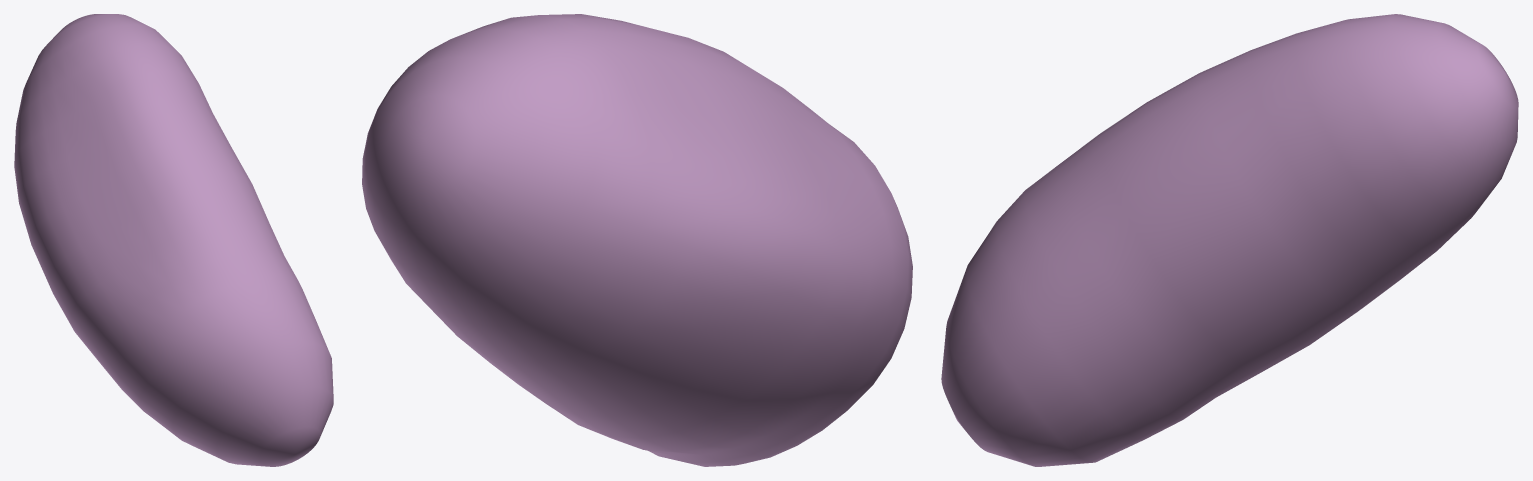
3 renders of one model, left to right at view 1: azimuth 30°, elevation 25°; view 2: azimuth 150°, elevation 25°; view 3: azimuth 270°, elevation 25°, orthographic. The views are drawn at different scales.
Visible parts, largest first — view 1: 右侧锥体; view 2: 右侧锥体; view 3: 右侧锥体.
Boxes of the visible parts, <box> form: 右侧锥体: <box>14,14,333,466</box>; 右侧锥体: <box>362,14,912,466</box>; 右侧锥体: <box>941,14,1518,466</box>.
Bounding box in the file's own units: 0.00991 × 0.0162 × 0.0197.
